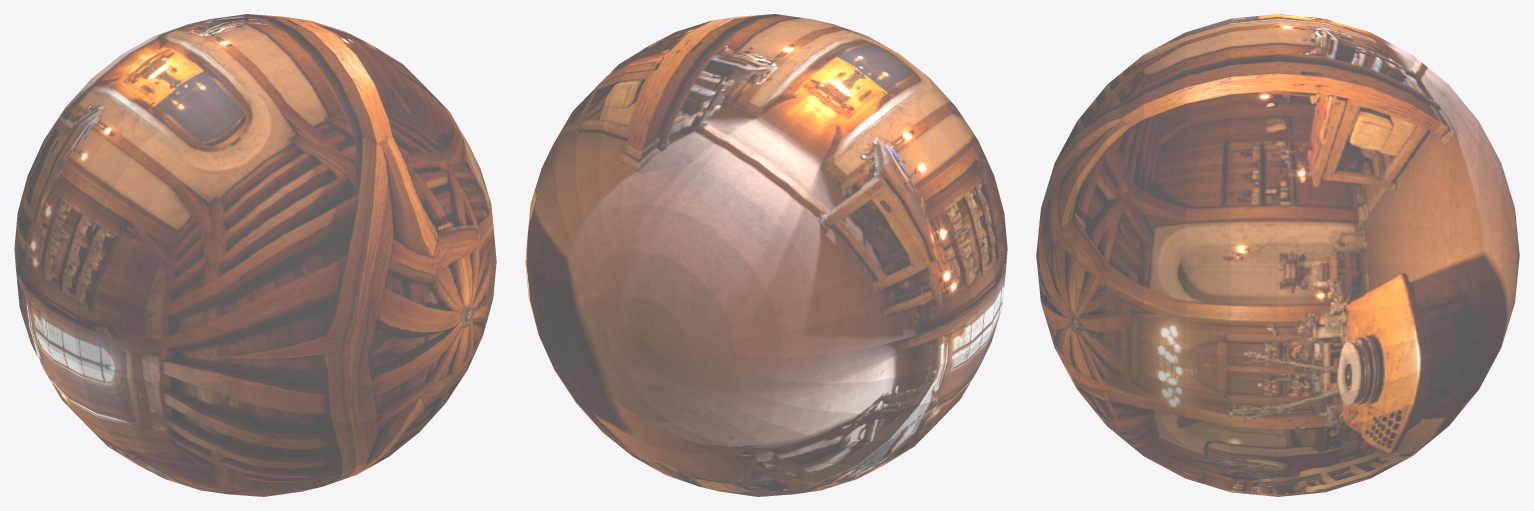
The model's file is FIRJAN_XR_Sphere_360_01.glb.
3 renders of one model, left to right at view 1: azimuth 30°, elevation 25°; view 2: azimuth 150°, elevation 25°; view 3: azimuth 270°, elevation 25°, orthographic.
Visible parts, largest first — view 1: Sphere_360_01; view 2: Sphere_360_01; view 3: Sphere_360_01.
Part boxes in pixels (left/top/right/bottom): Sphere_360_01: left=14, top=14, right=496, bottom=496; Sphere_360_01: left=525, top=14, right=1007, bottom=496; Sphere_360_01: left=1036, top=14, right=1519, bottom=496.
Size of the model in its own units: 20 by 20 by 20.
Materials: 1 (1 with a texture image).
